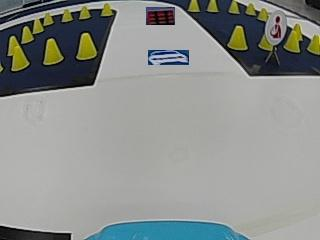cone: (75, 32, 97, 61), (10, 39, 29, 70), (42, 38, 63, 65), (228, 25, 248, 51), (284, 26, 301, 53), (307, 32, 320, 54), (21, 25, 34, 42), (100, 2, 113, 17), (79, 5, 91, 19), (32, 18, 44, 32), (61, 8, 73, 22), (256, 7, 268, 20), (187, 0, 200, 12), (43, 12, 54, 25), (207, 0, 218, 12), (228, 1, 239, 13), (245, 2, 255, 15)
patient: (267, 11, 285, 41)
